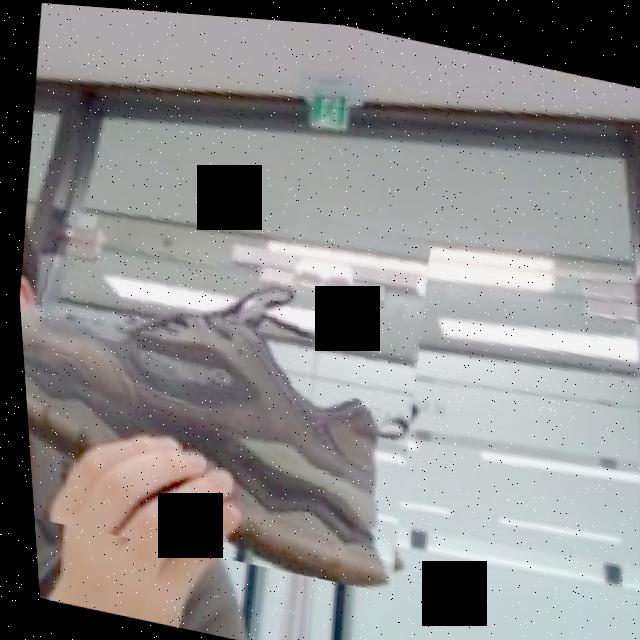shoe: (7, 139, 449, 594)
